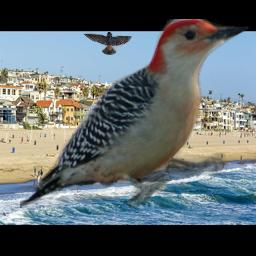Swallow: (82, 31, 132, 55)
Woodpecker: (20, 19, 253, 208)
